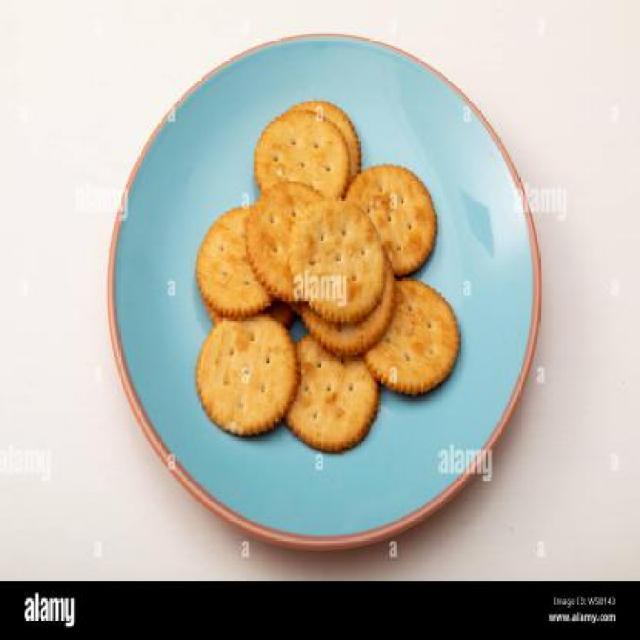Ritz cracker packaged: (198, 97, 460, 456)
